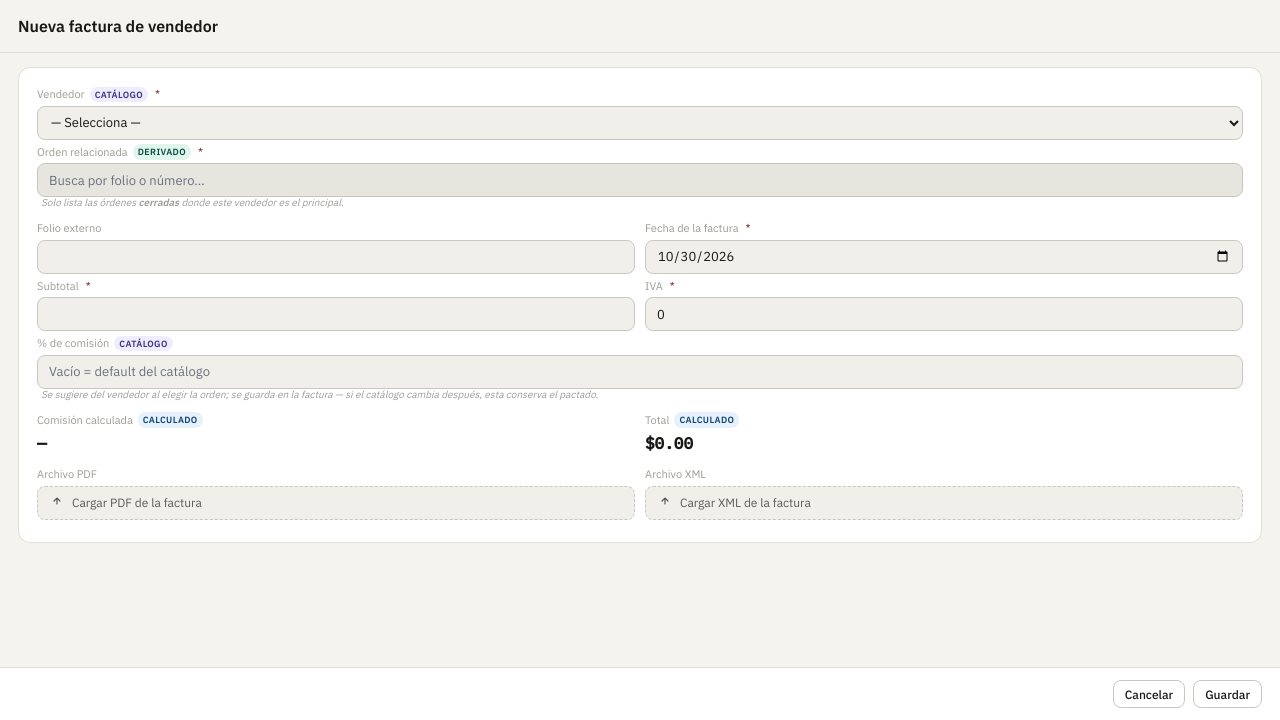
Scenario: FacturaVendedorForm › si el usuario ya capturó un % a mano, elegir la orden no lo pisa
Select "Juan Pérez" in the dropdown: {"x": 640, "y": 122} top-left (37, 106), bottom-right (1243, 140)
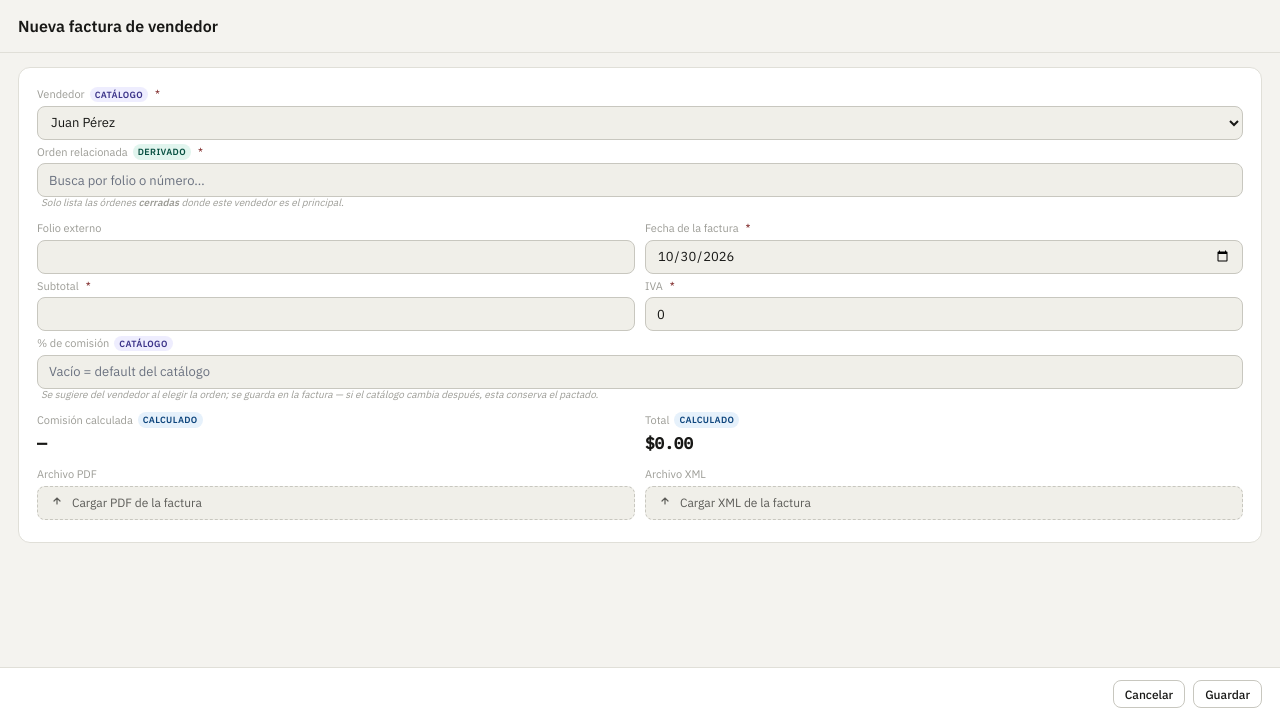
In the field with placeholder "Vacío = default del catálogo": {"x": 640, "y": 372} top-left (37, 354), bottom-right (1243, 388), type "8.00"
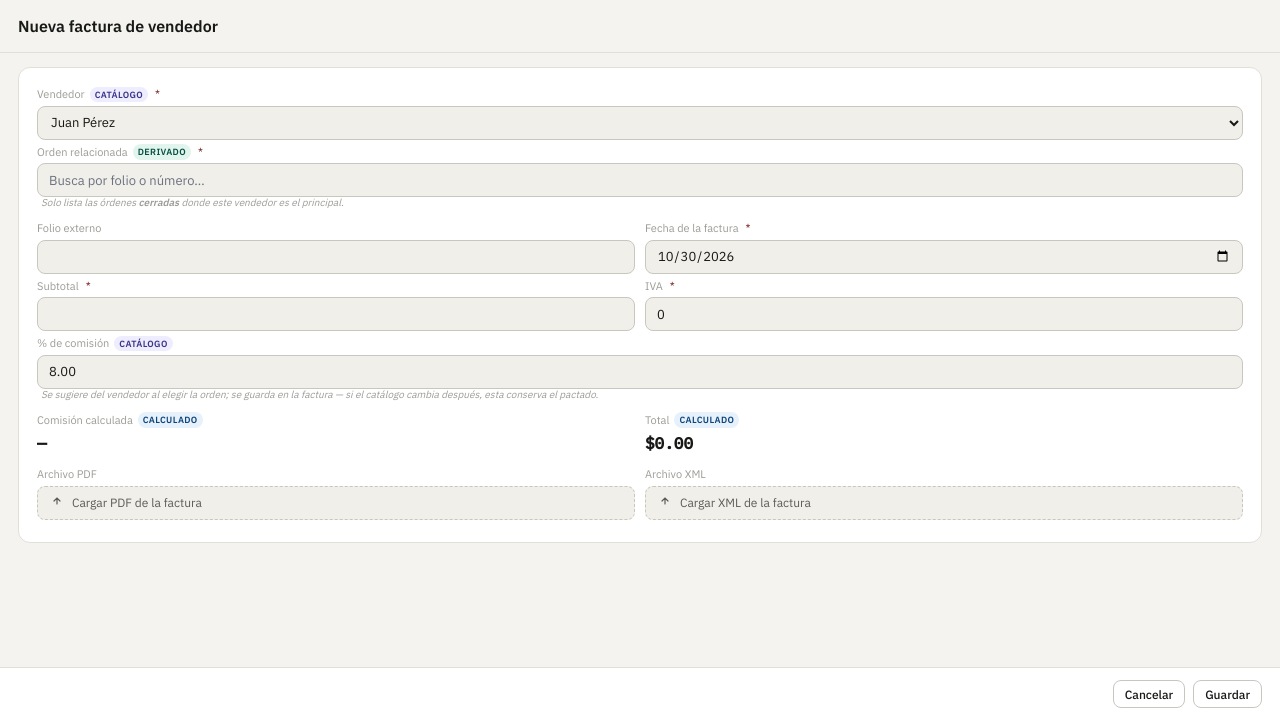
In the field with placeholder "Busca por folio o número…": {"x": 640, "y": 180} top-left (37, 163), bottom-right (1243, 197), type "OC-2025-0041"
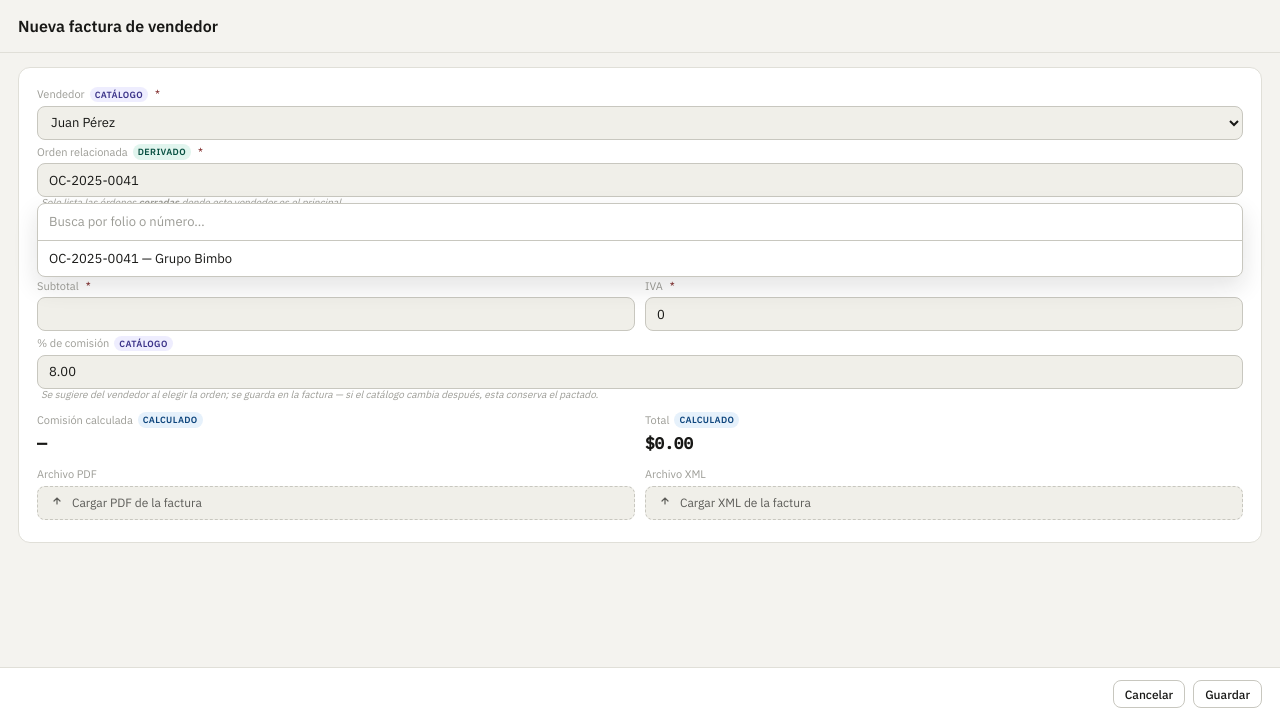
Press the mouse on the text "OC-2025-0041 — Grupo Bimbo": {"x": 141, "y": 258} top-left (49, 250), bottom-right (232, 266)
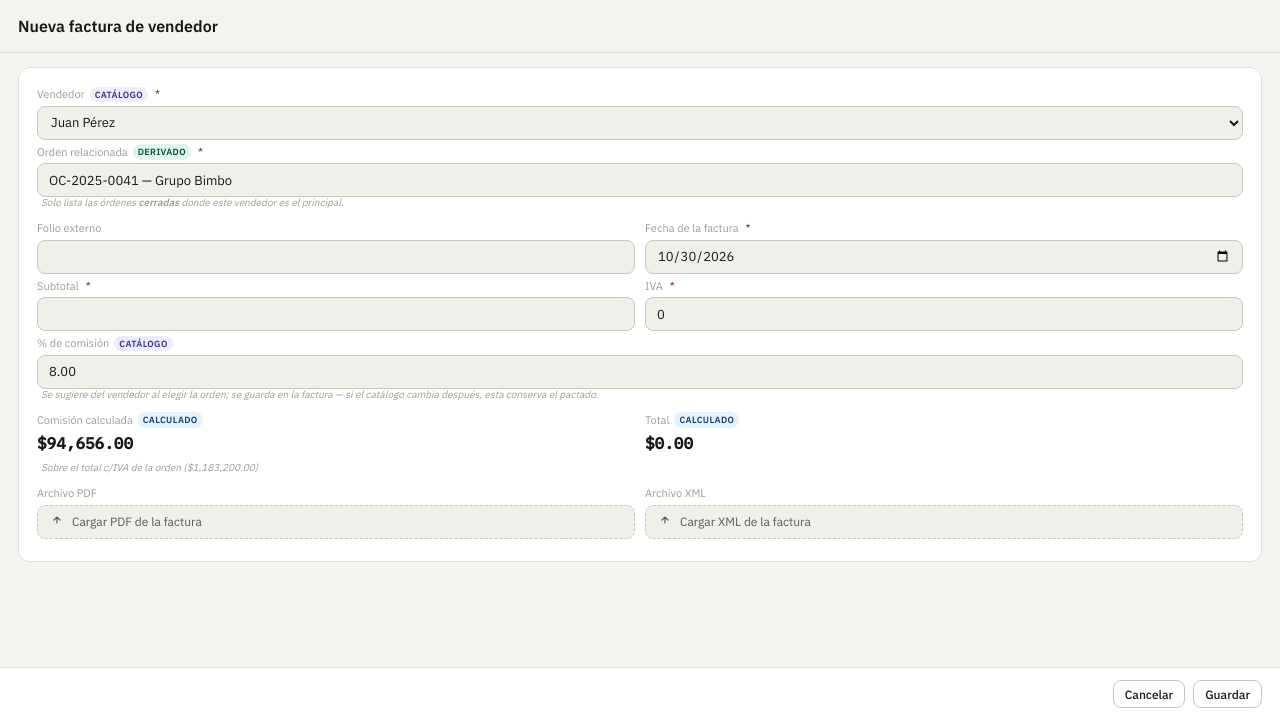
Result: the text "$94,656.00" is shown at top-left (37, 433), bottom-right (133, 453)
